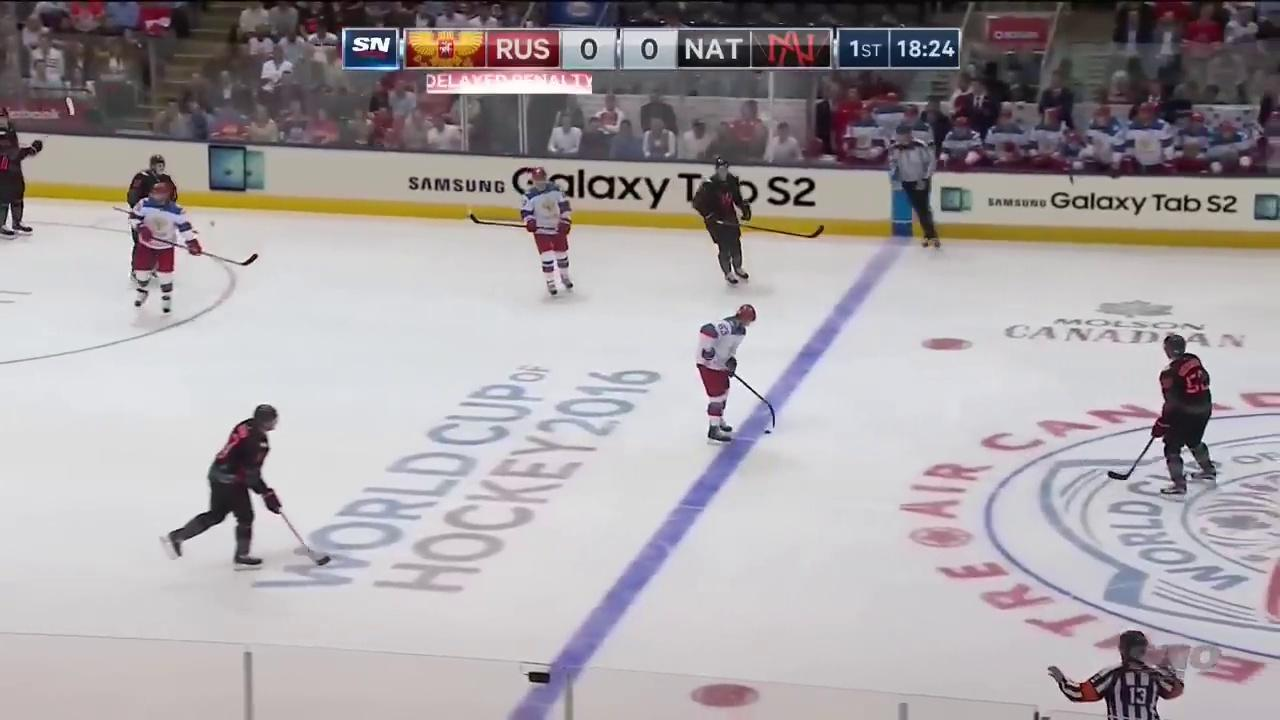ball: (764, 430, 772, 434)
